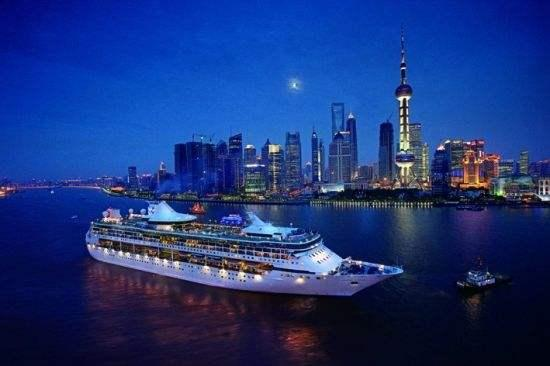otherboat: (445, 261, 512, 296)
youlun: (85, 195, 405, 297)
